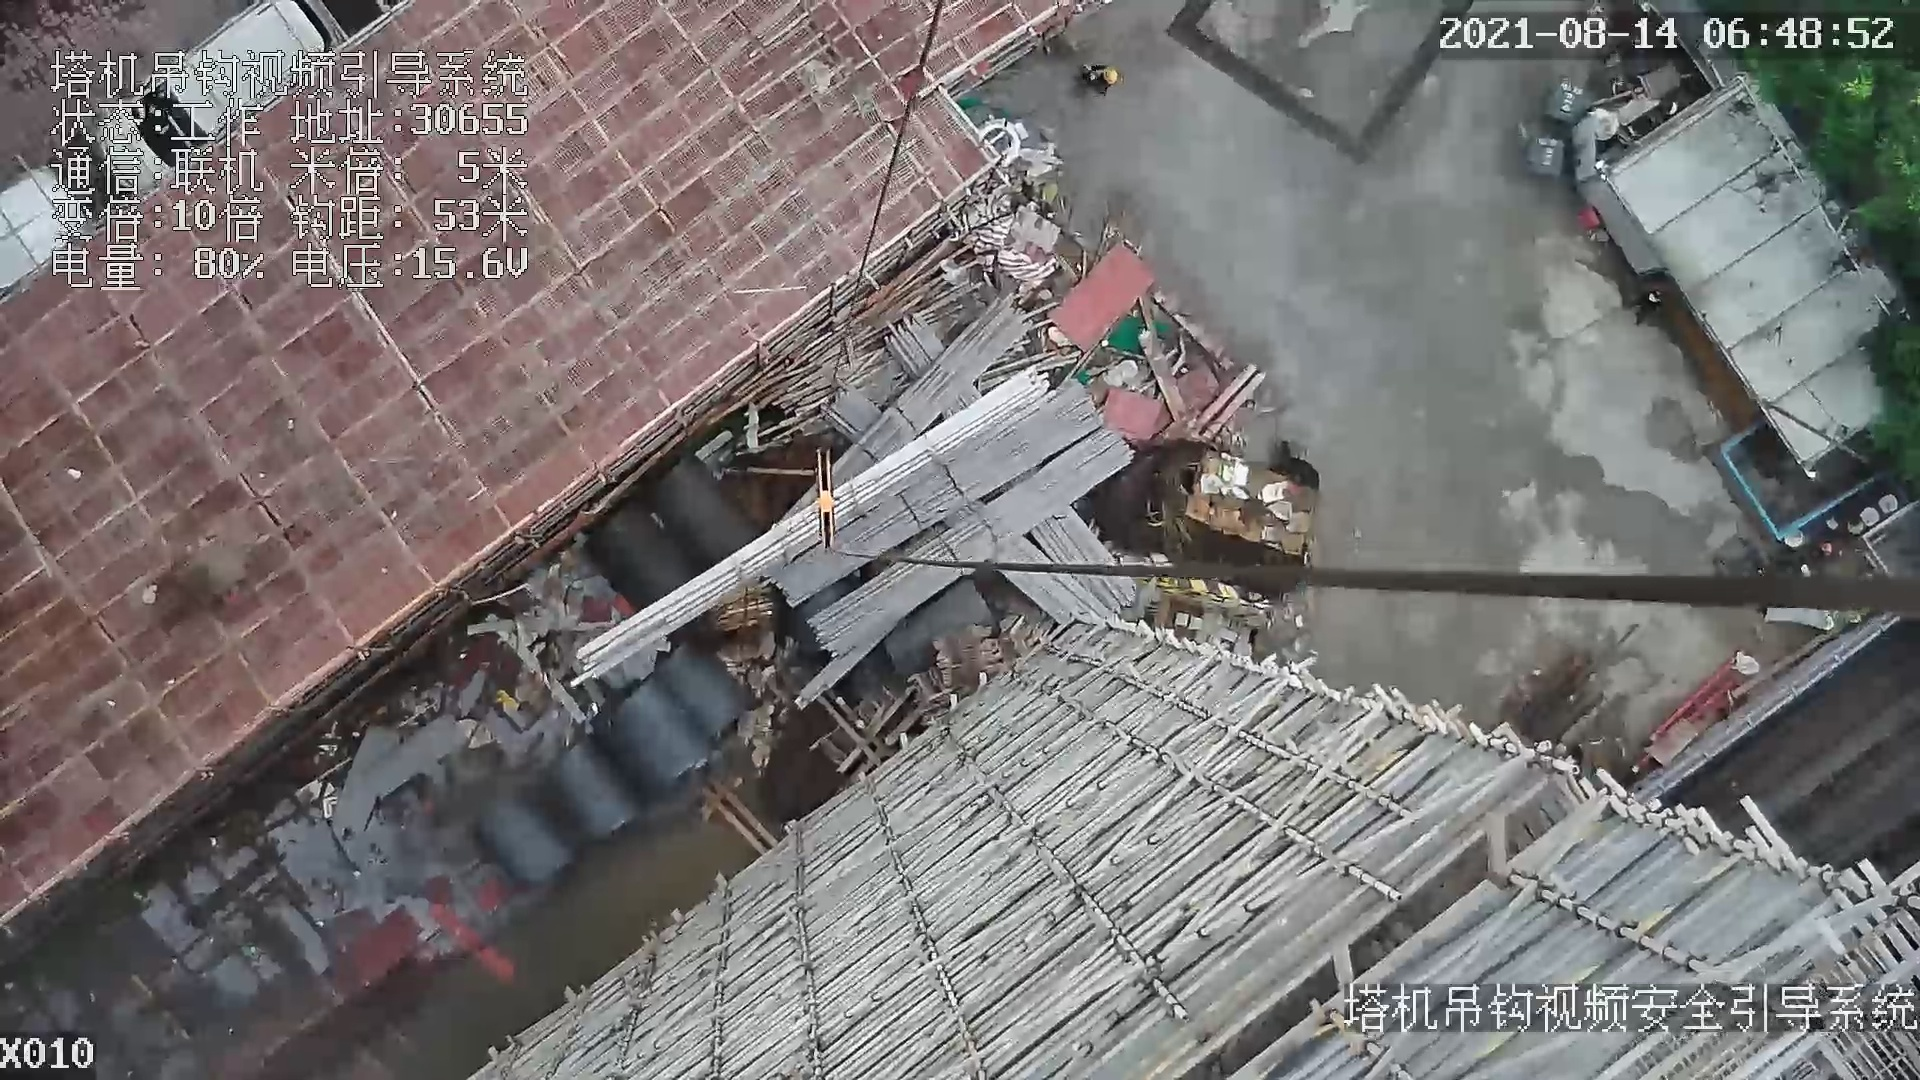helmet: (1103, 68, 1119, 85)
hook: (812, 447, 844, 553)
hopper: (1714, 411, 1885, 535)
person: (1073, 55, 1122, 105)
